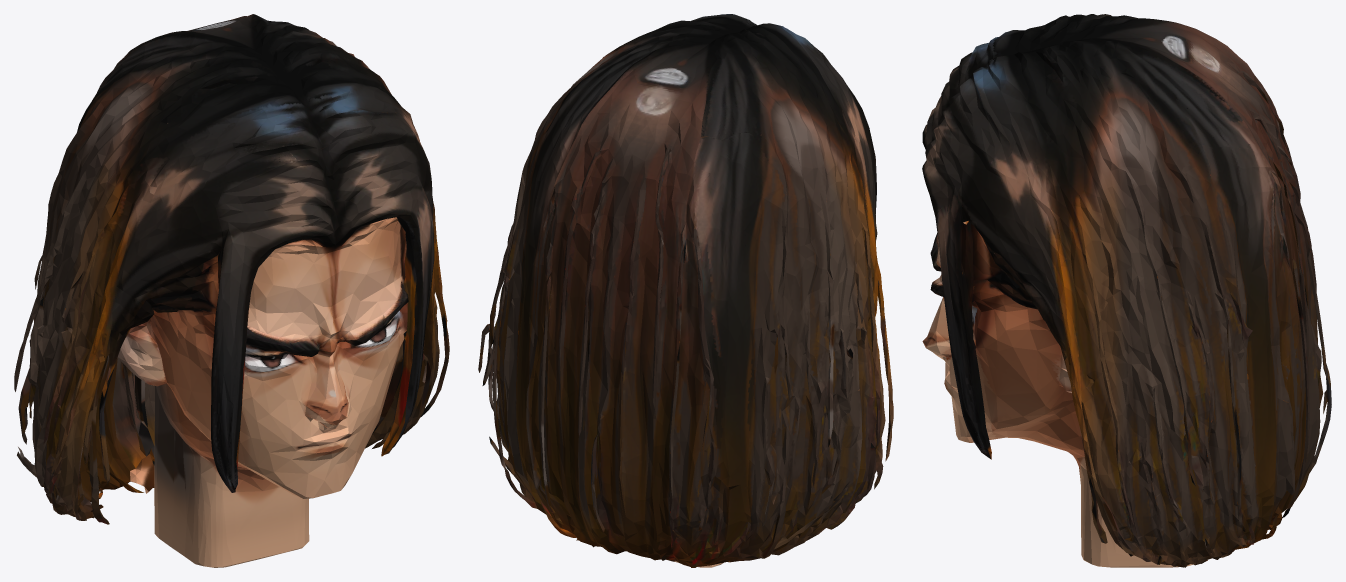
File: side_mirumotosen_repaired_atlas.glb
3 views of the same model, side by side, from view 1: azimuth 30°, elevation 25°; view 2: azimuth 150°, elevation 25°; view 3: azimuth 270°, elevation 25° (orthographic). The views are drawn at different scales.
Parts seen in each view (by area): view 1: temp_mesh.ply; view 2: temp_mesh.ply; view 3: temp_mesh.ply.
Boxes of the visible parts, bbox=[...] form: temp_mesh.ply: bbox=[14, 14, 449, 567]; temp_mesh.ply: bbox=[478, 14, 893, 567]; temp_mesh.ply: bbox=[922, 14, 1331, 567].
Bounding box in the file's own units: 1.59 × 1.97 × 1.44.
Materials: 1 (1 with a texture image).
